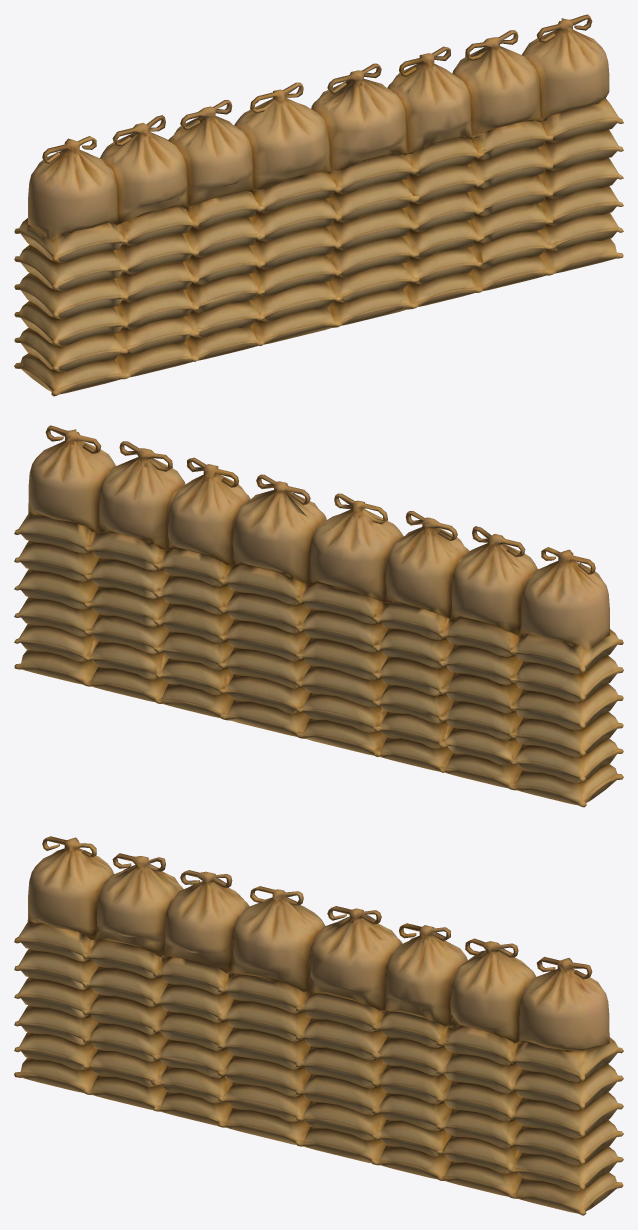
Rendered from a_sandbag_wall_a230dd4c_v2.glb.
3 renders of one model, top to bottom at view 1: azimuth 30°, elevation 25°; view 2: azimuth 150°, elevation 25°; view 3: azimuth 330°, elevation 25°, orthographic.
Parts seen in each view (by area): view 1: material; view 2: material; view 3: material.
Part boxes in pixels (x1,y1,x2,y2): material: (14,14,623,396); material: (14,425,623,807); material: (14,836,623,1215).
Bounding box in the file's own units: 1.9 × 0.7577 × 0.2461.
1 material, 1 textured.
